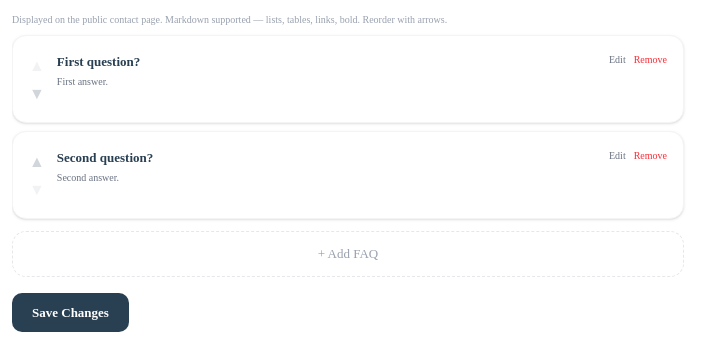
it: FaqsTab › removes an item
The width and height of the screenshot is (701, 349).
Click the button "Remove" in the row of "First question?".
click(650, 60)  # box 634,52 -> 667,67
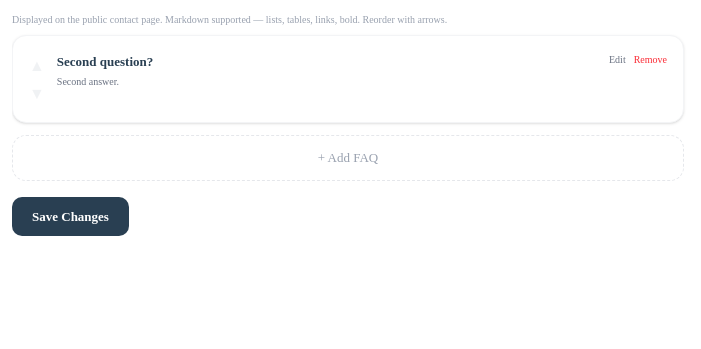
Expected: the text "First question?" is gone
Expected: the text "Second question?" is shown, 57,54 -> 153,69
